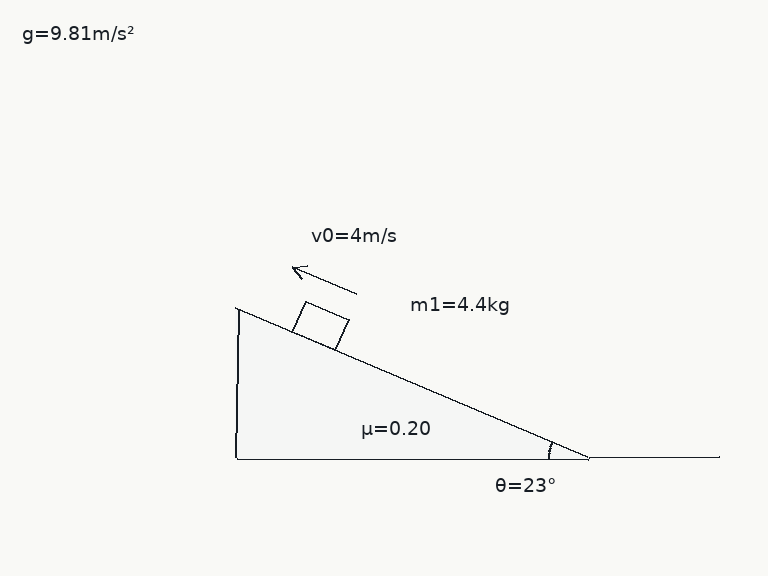block: (290, 299, 350, 352)
ramp: (234, 306, 591, 460)
